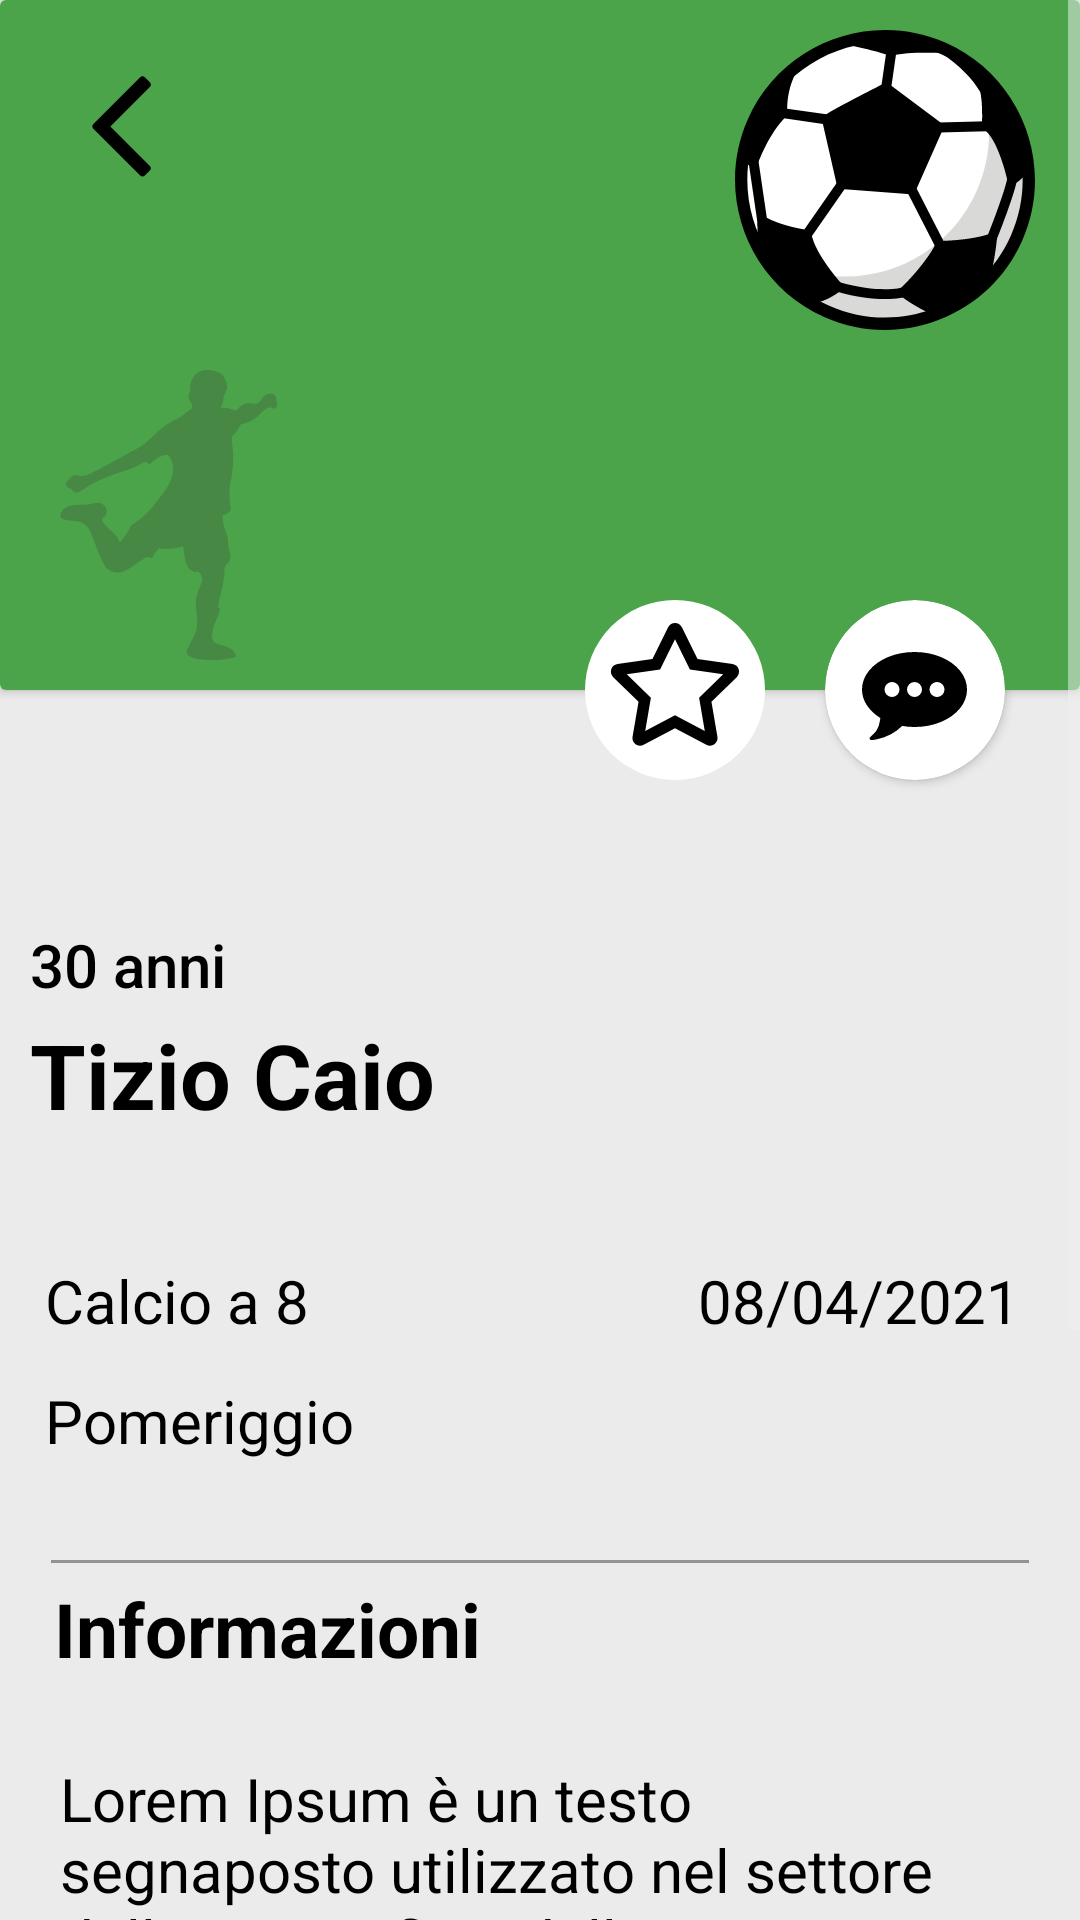

Screen size 1080×1920. Icon name, then its center in pixels as (x=x, y=y):
back: (x=121, y=126)
ball soccer: (x=885, y=180)
commenting: (x=914, y=696)
player soccer: (x=169, y=515)
